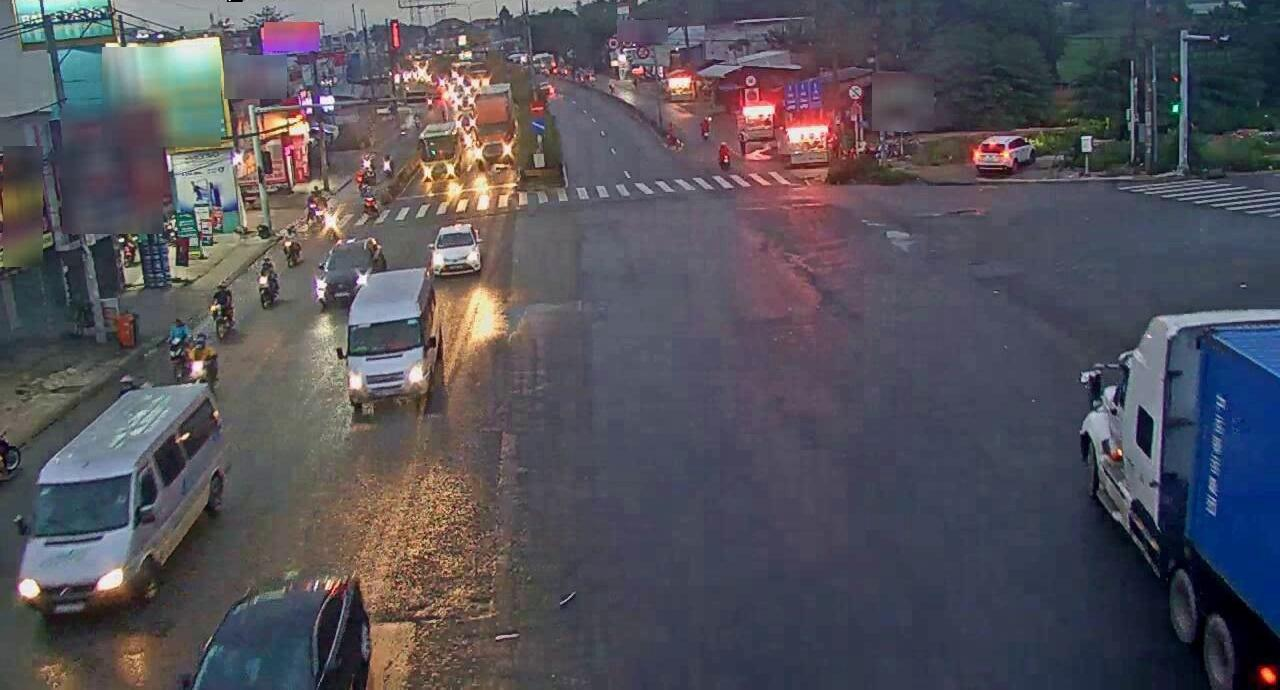xe container: (1074, 305, 1279, 675)
xe hoi: (314, 234, 380, 303), (426, 218, 481, 279)
xe van: (17, 381, 229, 611), (344, 266, 435, 409)
